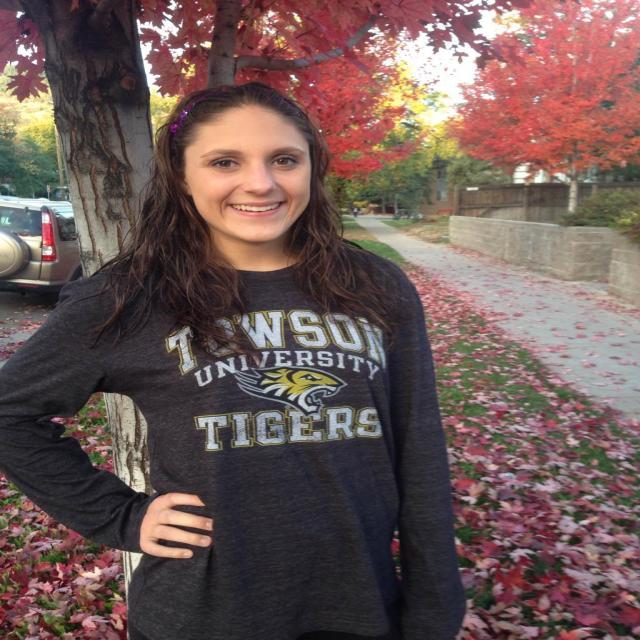Face: (162, 109, 345, 267)
